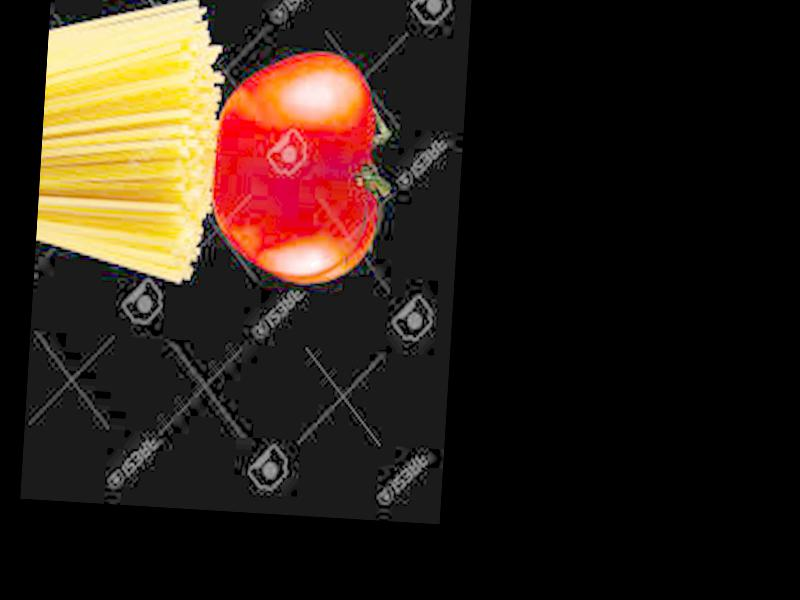Tomato: (206, 47, 387, 283)
